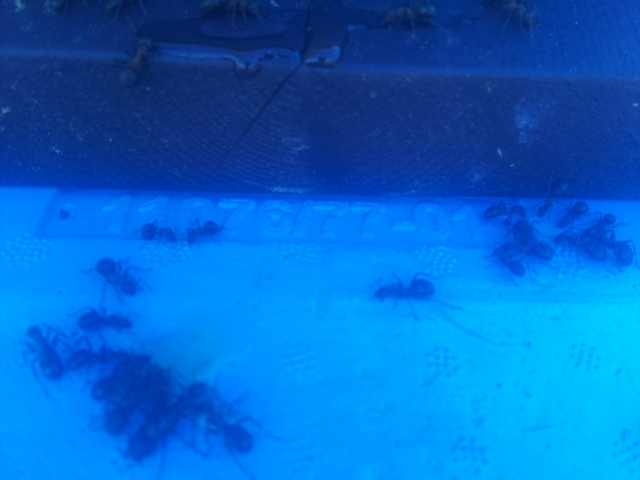ant: (88, 249, 145, 302), (114, 29, 161, 93)
